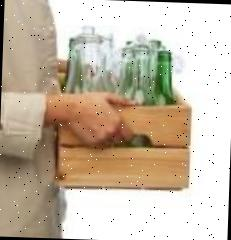glass: (64, 24, 176, 106)
